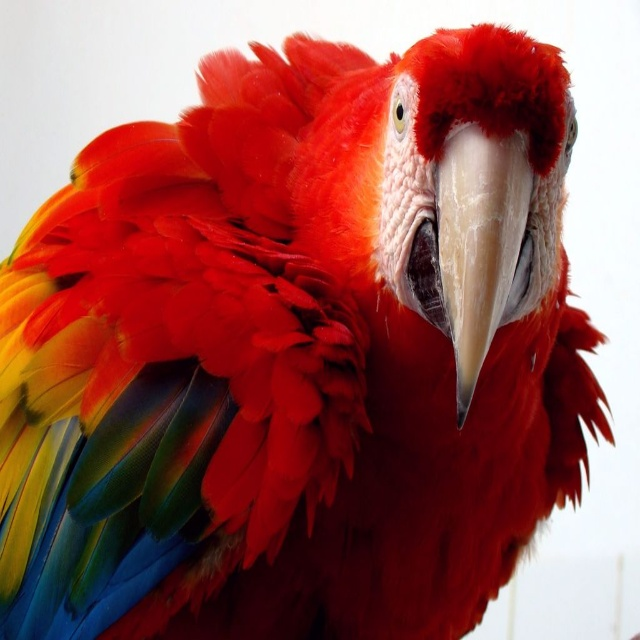Parrot: (0, 18, 617, 639)
